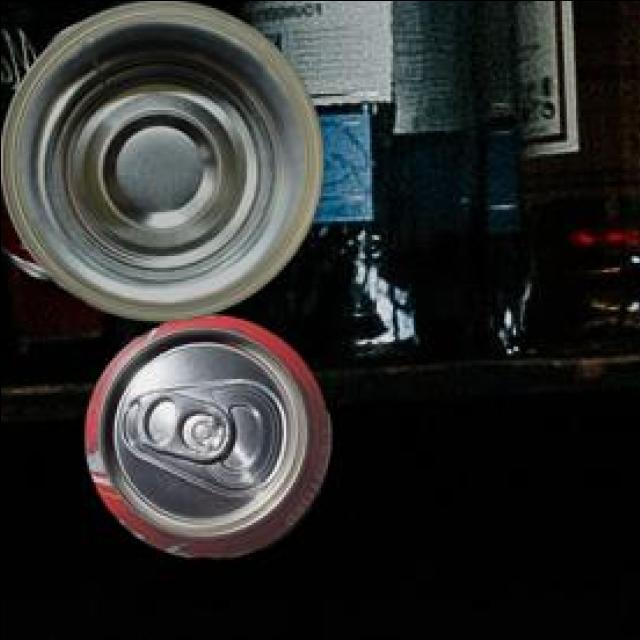logam: (3, 0, 326, 317), (87, 310, 335, 553), (3, 208, 59, 277)
